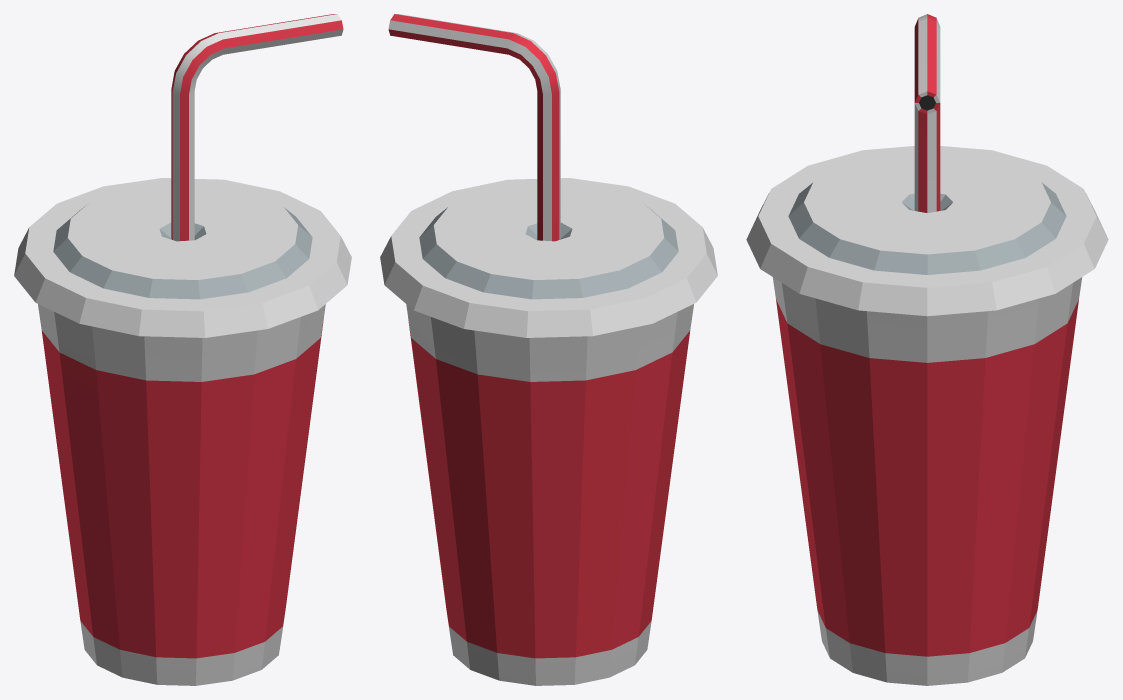
The model's file is Soda_Drink.fbx.
The picture shows the model from 3 angles, left to right: view 1: azimuth 30°, elevation 25°; view 2: azimuth 150°, elevation 25°; view 3: azimuth 270°, elevation 25°; orthographic projection. The views are drawn at different scales.
Parts seen in each view (by area): view 1: Soda_Drink; view 2: Soda_Drink; view 3: Soda_Drink.
Part boxes in pixels (<box>): Soda_Drink: <box>14,14,351,685</box>; Soda_Drink: <box>380,14,717,685</box>; Soda_Drink: <box>746,14,1108,685</box>.
Size of the model in its own units: 10.86 by 20.69 by 10.6.
